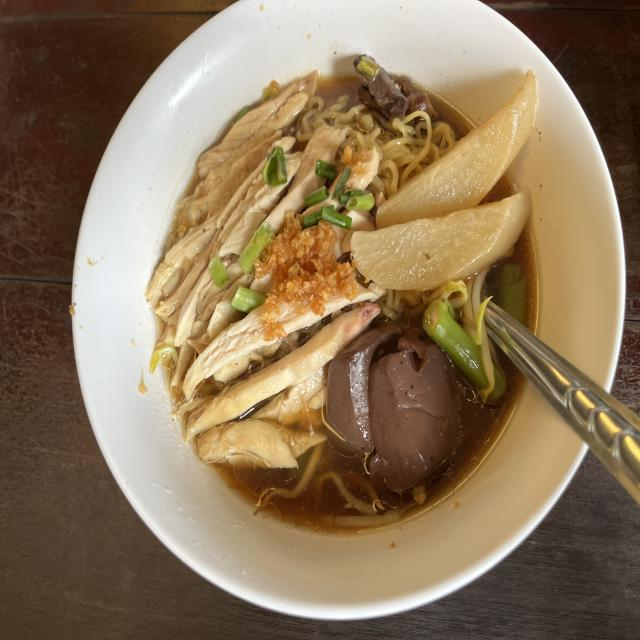boiled_chicken_blood_jelly: (323, 321, 461, 484)
chicken_shredded: (162, 76, 328, 476)
daikon_radish: (353, 67, 539, 283)
noodle: (150, 38, 582, 542)
